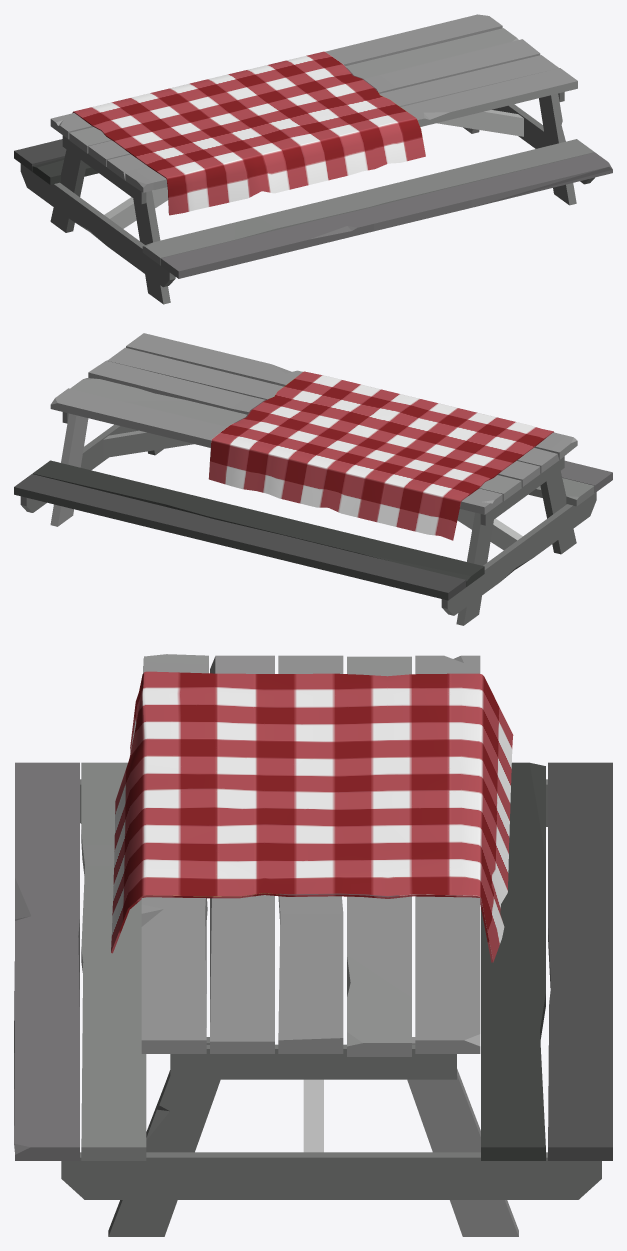
The model's file is SM_Prop_PicnicTable_02.obj.
The picture shows the model from 3 angles, top to bottom: view 1: azimuth 30°, elevation 25°; view 2: azimuth 150°, elevation 25°; view 3: azimuth 270°, elevation 25°; orthographic projection. The views are drawn at different scales.
Parts seen in each view (by area): view 1: SM_Prop_PicnicTable_02_Mat_SwatchOverlay_PolygonTown_01_WoodRota, SM_Prop_PicnicTable_02_Mat_SwatchOverlay_Farm_Main_01_Inst; view 2: SM_Prop_PicnicTable_02_Mat_SwatchOverlay_PolygonTown_01_WoodRota, SM_Prop_PicnicTable_02_Mat_SwatchOverlay_Farm_Main_01_Inst; view 3: SM_Prop_PicnicTable_02_Mat_SwatchOverlay_PolygonTown_01_WoodRota, SM_Prop_PicnicTable_02_Mat_SwatchOverlay_Farm_Main_01_Inst.
Part boxes in pixels (x1,y1,x2,y2): SM_Prop_PicnicTable_02_Mat_SwatchOverlay_PolygonTown_01_WoodRota: (14, 14, 612, 304); SM_Prop_PicnicTable_02_Mat_SwatchOverlay_Farm_Main_01_Inst: (72, 51, 425, 215); SM_Prop_PicnicTable_02_Mat_SwatchOverlay_PolygonTown_01_WoodRota: (14, 333, 612, 625); SM_Prop_PicnicTable_02_Mat_SwatchOverlay_Farm_Main_01_Inst: (208, 371, 553, 540); SM_Prop_PicnicTable_02_Mat_SwatchOverlay_PolygonTown_01_WoodRota: (14, 654, 612, 1236); SM_Prop_PicnicTable_02_Mat_SwatchOverlay_Farm_Main_01_Inst: (111, 671, 513, 962).
Size of the model in its own units: 4.48 by 1.15 by 2.95.
Materials: 2 (2 with a texture image).
